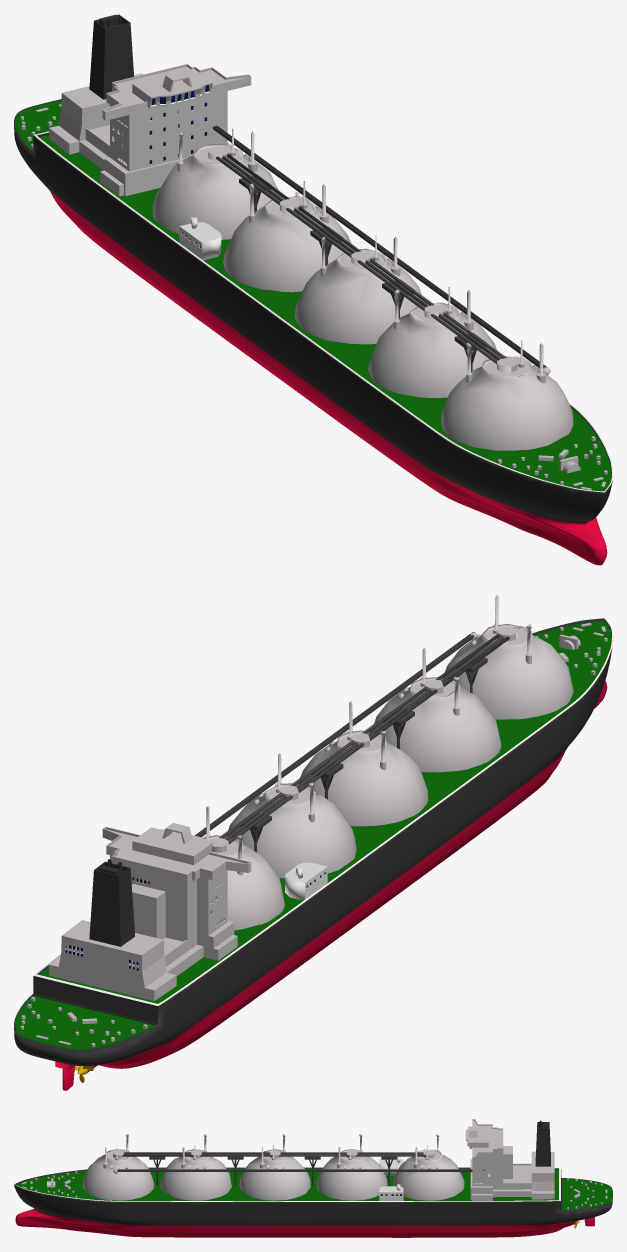
The model's file is lng-artblender.glb.
3 renders of one model, top to bottom at view 1: azimuth 30°, elevation 25°; view 2: azimuth 150°, elevation 25°; view 3: azimuth 270°, elevation 25°, orthographic. The views are drawn at different scales.
Visible parts, largest first — view 1: Object_4; view 2: Object_4; view 3: Object_4.
Boxes of the visible parts, x1,y1,x2,y2 form: Object_4: (14,14,612,565); Object_4: (14,594,612,1090); Object_4: (14,1119,612,1237).
Bounding box in the file's own units: 6.58 × 8.51 × 43.52.
Materials: 1 (1 with a texture image).
